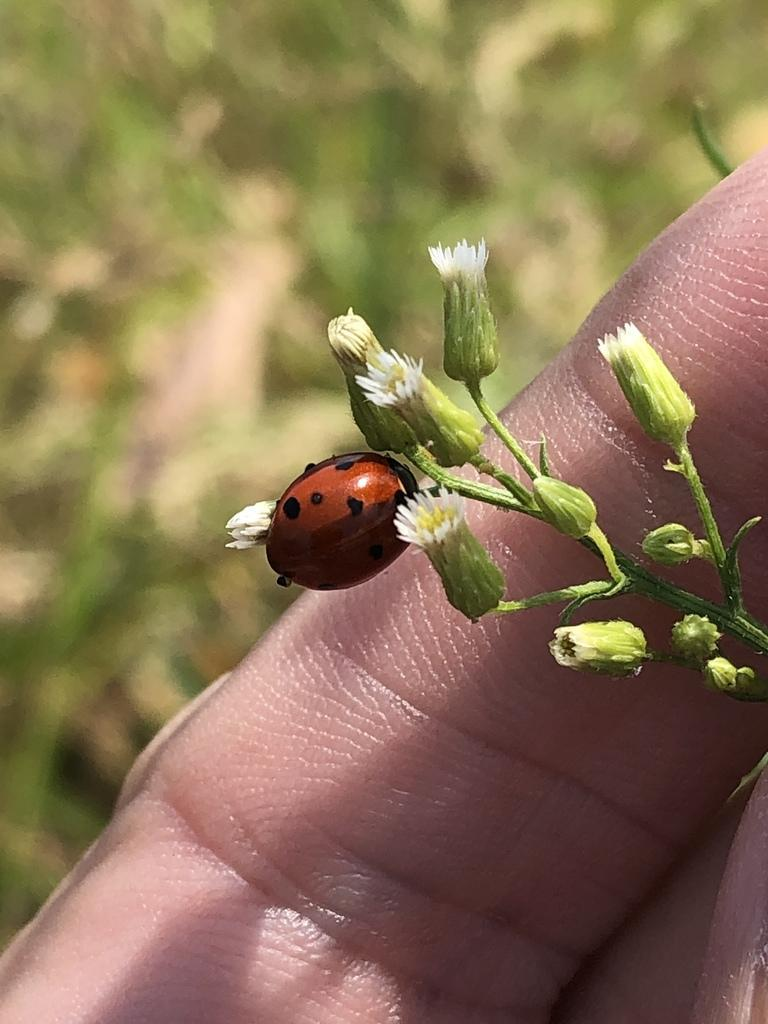ladybug: (261, 449, 426, 594)
